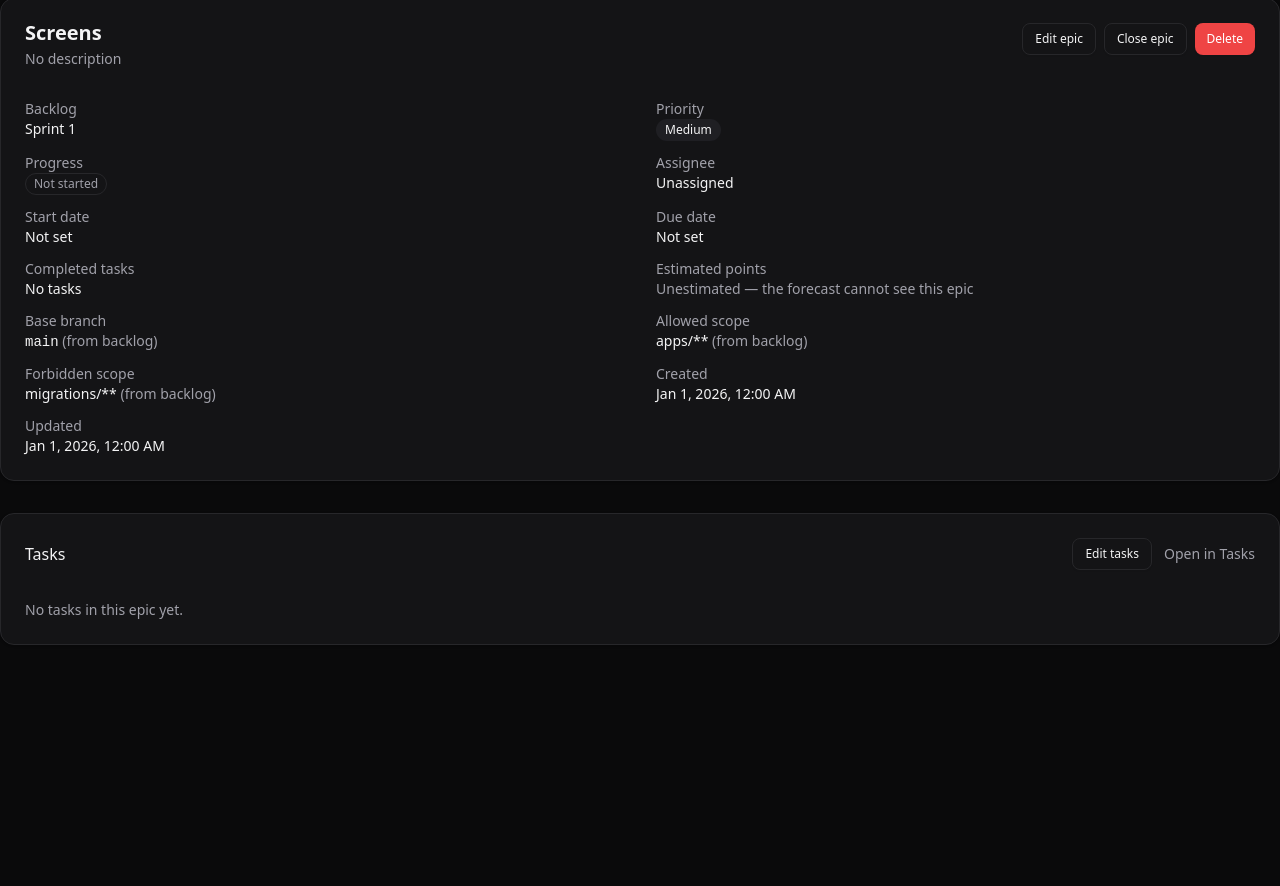
Test: EpicDetail › edits in place and reads back the saved values
Click the button "Edit epic": (1059, 39) x1=1022 y1=23 x2=1096 y2=55
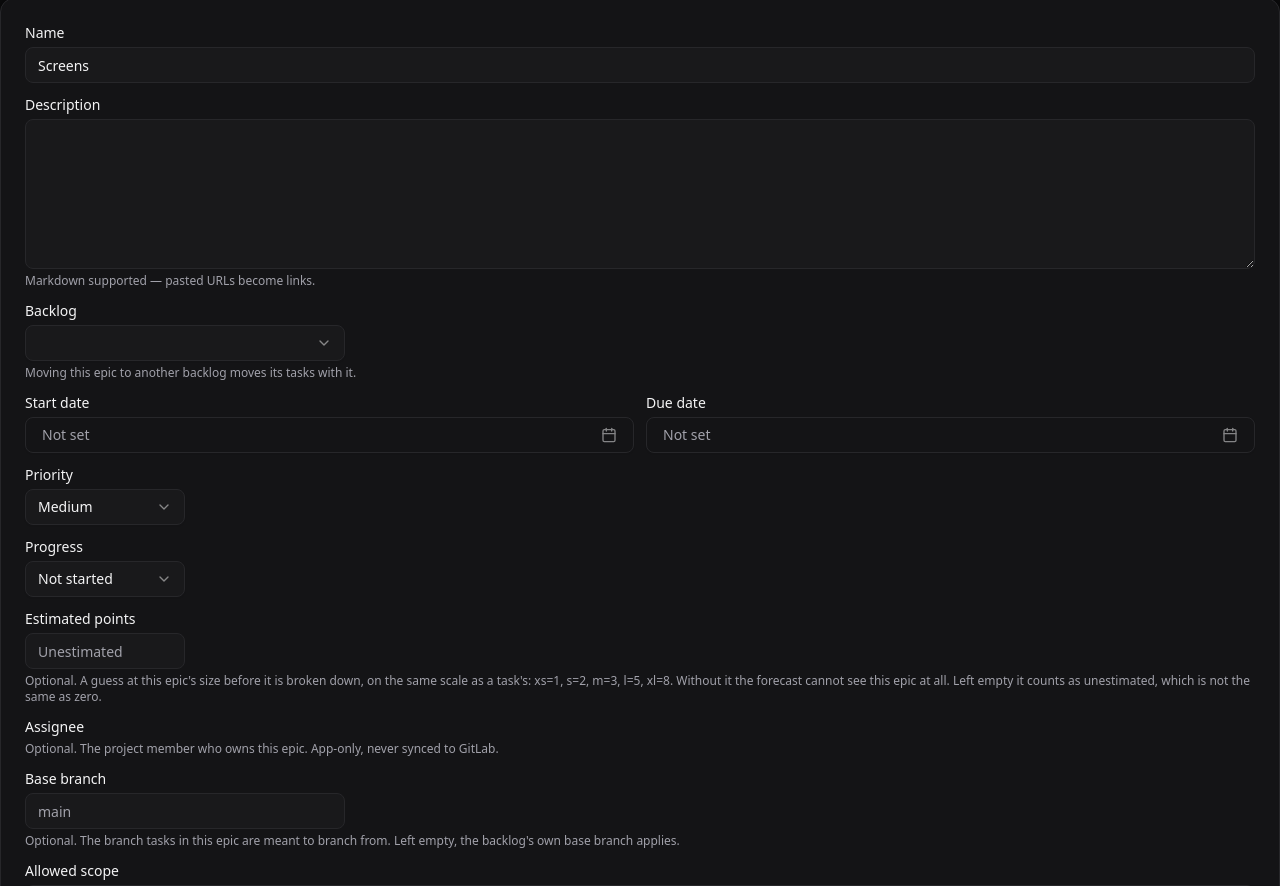
Replace the text in the field labelled "Name" with "Screens v2": (640, 65) x1=25 y1=47 x2=1255 y2=83
(page scrolled)
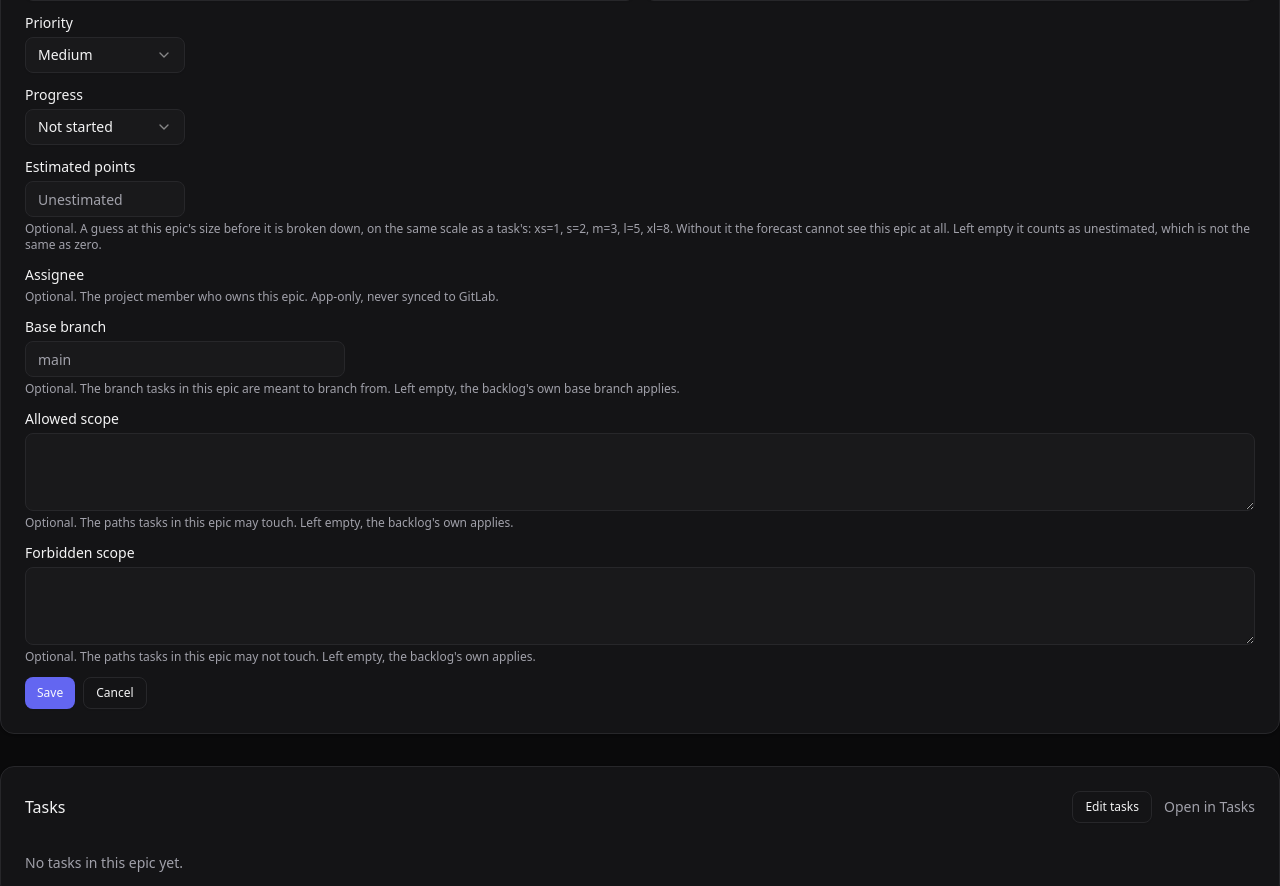
Click the button "Save": (50, 693) x1=25 y1=677 x2=75 y2=709
(page scrolled)
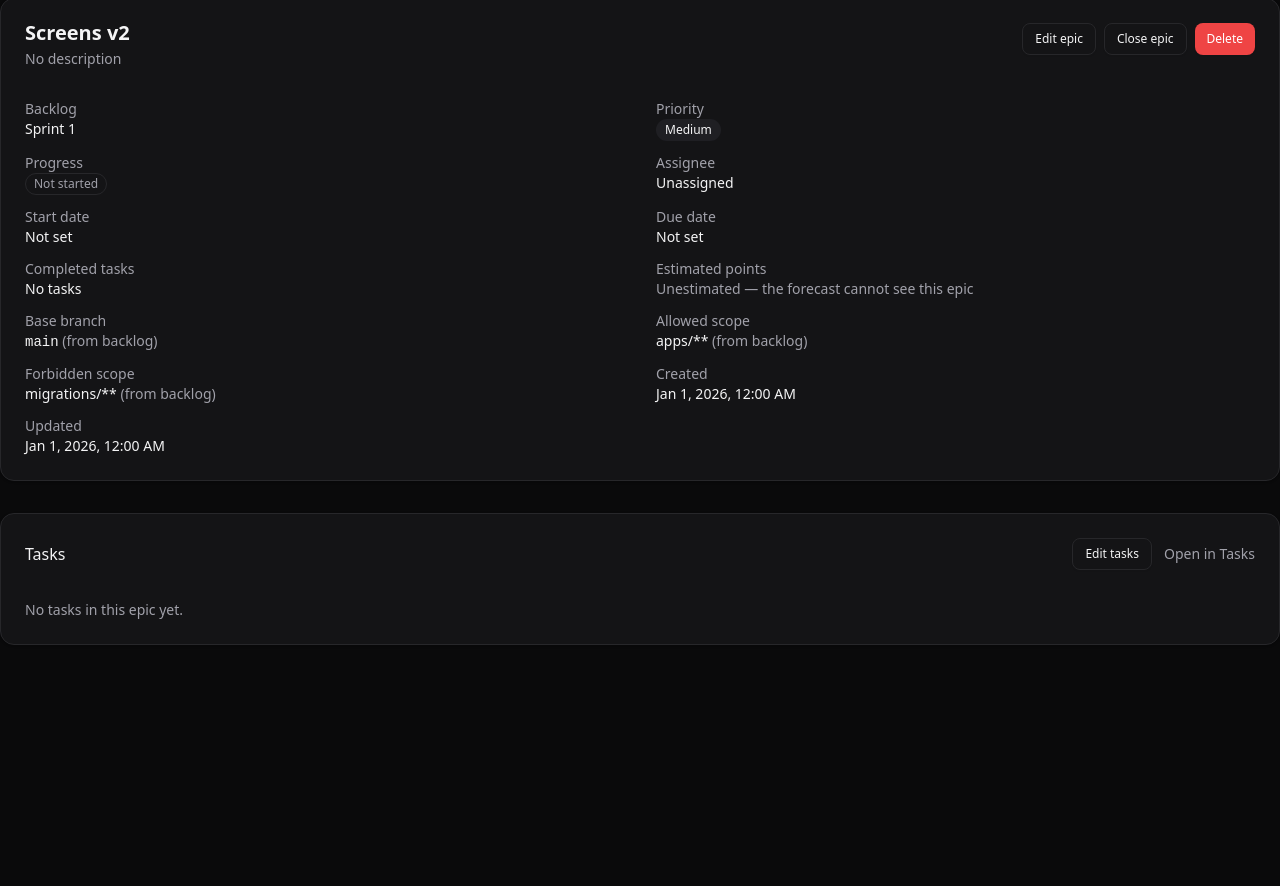
Check: the heading "Screens v2" is shown, box x1=25 y1=23 x2=130 y2=43
